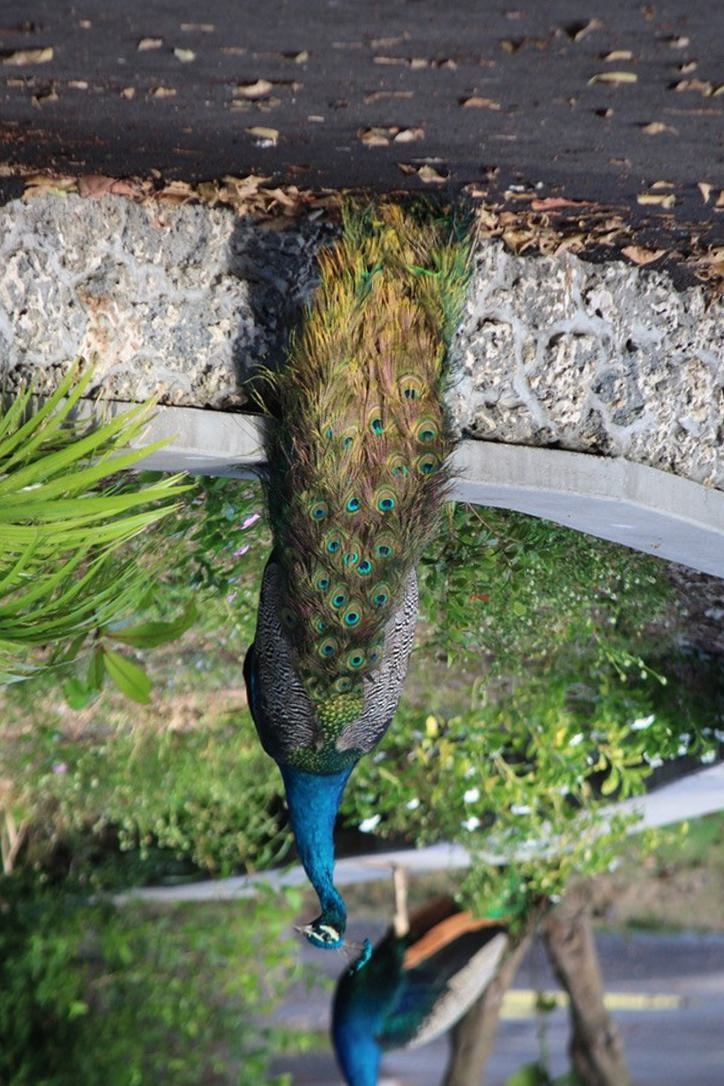peacock: (230, 153, 461, 969)
